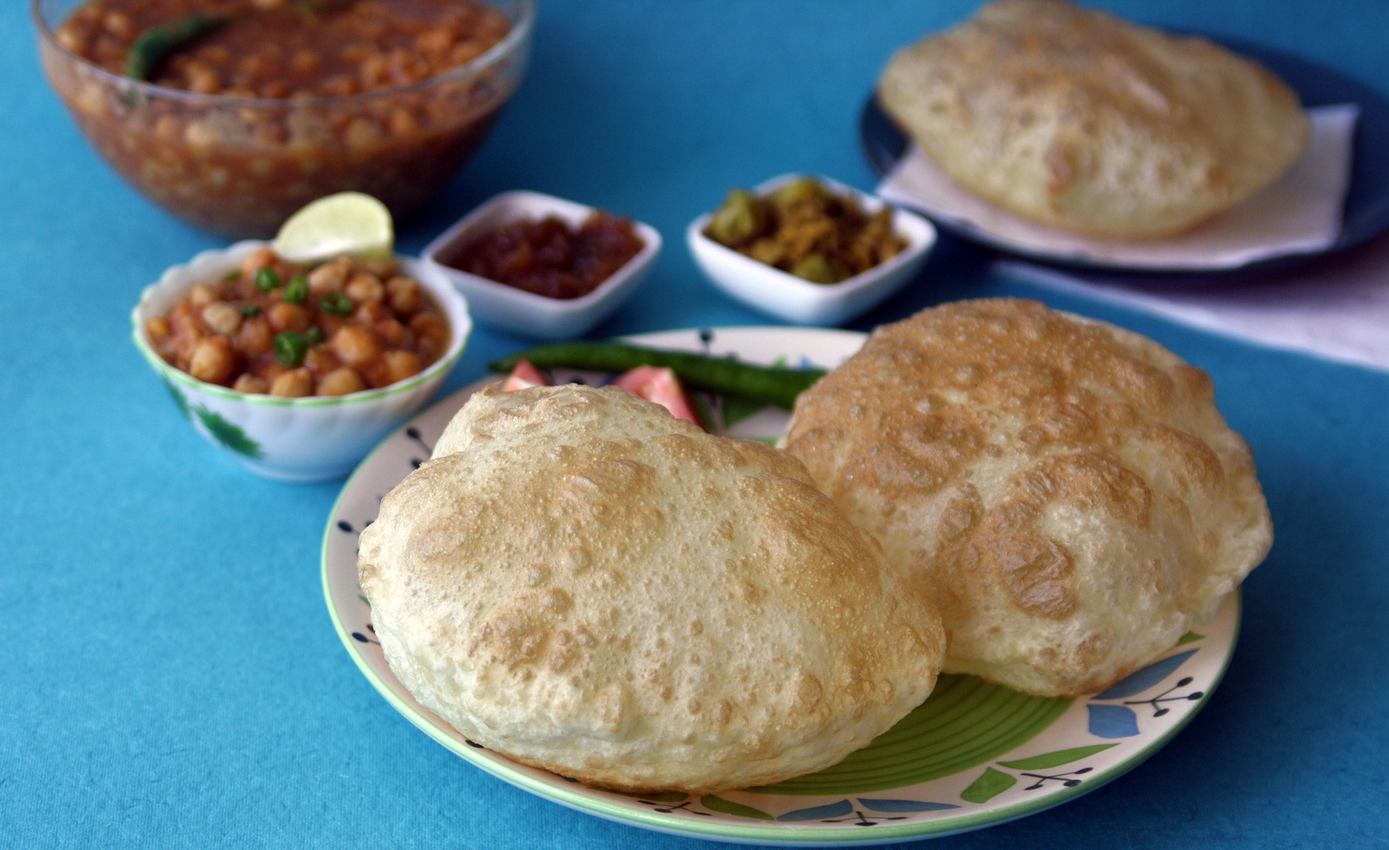Bhatura: (363, 385, 947, 801), (789, 300, 1275, 695), (883, 0, 1304, 243)
Chole: (159, 232, 435, 395)
